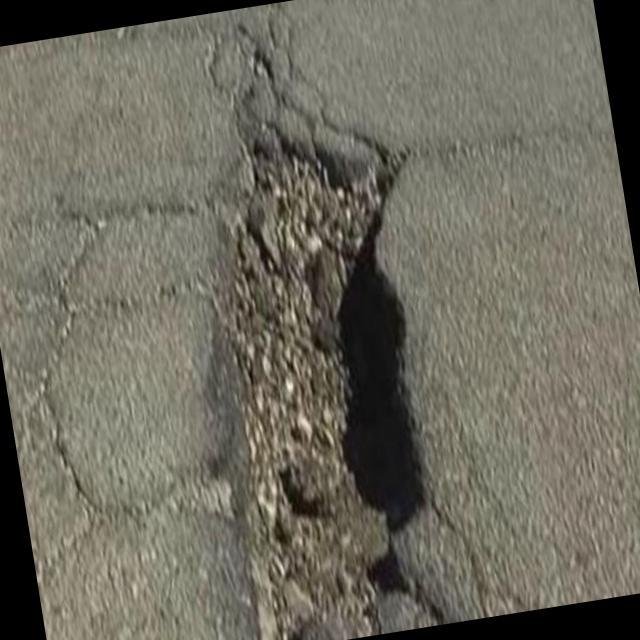Pothole: (223, 48, 430, 640)
